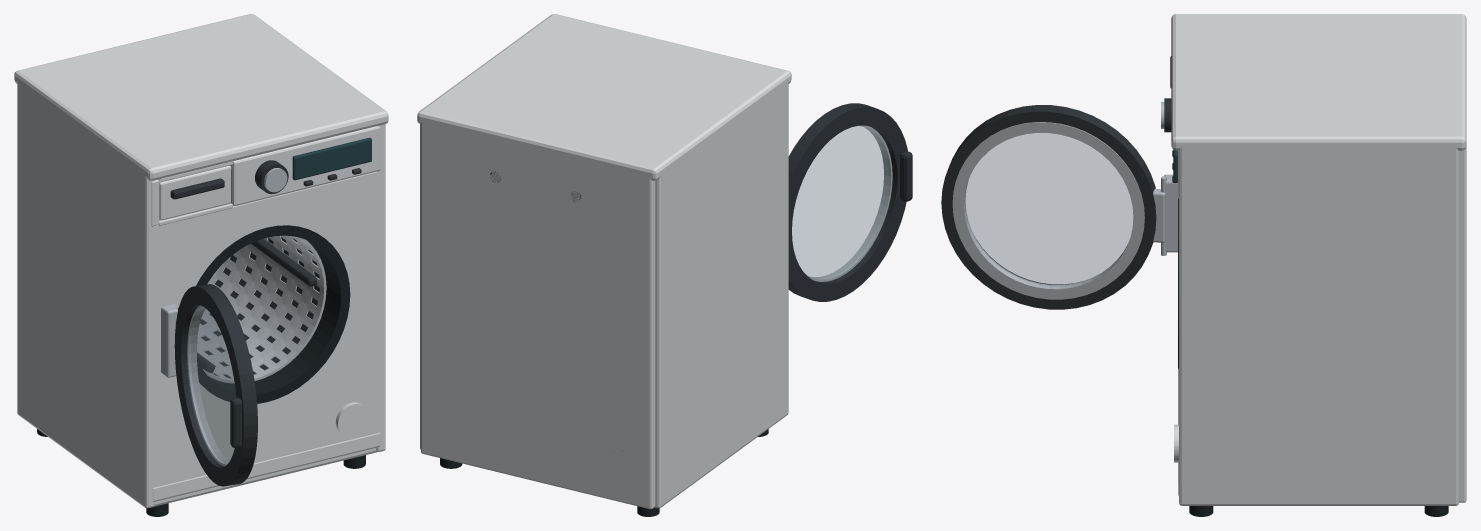
3 renders of one model, left to right at view 1: azimuth 30°, elevation 25°; view 2: azimuth 150°, elevation 25°; view 3: azimuth 270°, elevation 25°, orthographic. The views are drawn at different scales.
Visible parts, largest first — view 1: Cabinet side -0.287, Cabinet top cap, Front porthole fascia, Rotating perforated drum sleeve, Door moving outer trim, Flexible front door gasket, Door moving glazed disk, Control panel right, Lower kick panel, Drawer moving front, Cabinet side 0.287, Dark display screen (+11 smaller); view 2: Cabinet rear panel, Cabinet side -0.287, Cabinet top cap, Door moving glazed disk, Door moving outer trim, Door moving inner ring, Door moving handle; view 3: Cabinet side 0.287, Cabinet top cap, Door moving glazed disk, Door moving outer trim, Door moving inner ring, Cabinet rear panel, Fixed door hinge leaf, Door moving hinge arm.
Boxes of the visible parts, left/top/right/bottom form: Cabinet side -0.287: left=17, top=82, right=154, bottom=508; Cabinet top cap: left=14, top=14, right=388, bottom=180; Front porthole fascia: left=152, top=171, right=381, bottom=487; Rotating perforated drum sleeve: left=197, top=235, right=321, bottom=378; Door moving outer trim: left=174, top=284, right=257, bottom=486; Flexible front door gasket: left=196, top=225, right=350, bottom=403; Door moving glazed disk: left=187, top=306, right=235, bottom=465; Control panel right: left=230, top=126, right=380, bottom=205; Lower kick panel: left=152, top=433, right=380, bottom=501; Drawer moving front: left=159, top=165, right=231, bottom=220; Cabinet side 0.287: left=376, top=124, right=385, bottom=451; Dark display screen: left=292, top=137, right=371, bottom=180; Cabinet rear panel: left=421, top=120, right=655, bottom=509; Cabinet side -0.287: left=655, top=82, right=788, bottom=508; Cabinet top cap: left=417, top=14, right=791, bottom=180; Door moving glazed disk: left=792, top=126, right=892, bottom=280; Door moving outer trim: left=788, top=103, right=907, bottom=301; Door moving inner ring: left=806, top=125, right=892, bottom=281; Door moving handle: left=900, top=151, right=912, bottom=201; Cabinet side 0.287: left=1179, top=147, right=1458, bottom=505; Cabinet top cap: left=1171, top=14, right=1466, bottom=150; Door moving glazed disk: left=965, top=133, right=1132, bottom=285; Door moving outer trim: left=941, top=105, right=1156, bottom=309; Door moving inner ring: left=952, top=122, right=1144, bottom=299; Cabinet rear panel: left=1459, top=147, right=1466, bottom=502; Fixed door hinge leaf: left=1164, top=174, right=1177, bottom=252; Door moving hinge arm: left=1153, top=189, right=1165, bottom=242.
Bounding box in the file's own units: 0.6435 × 0.848 × 1.05.
